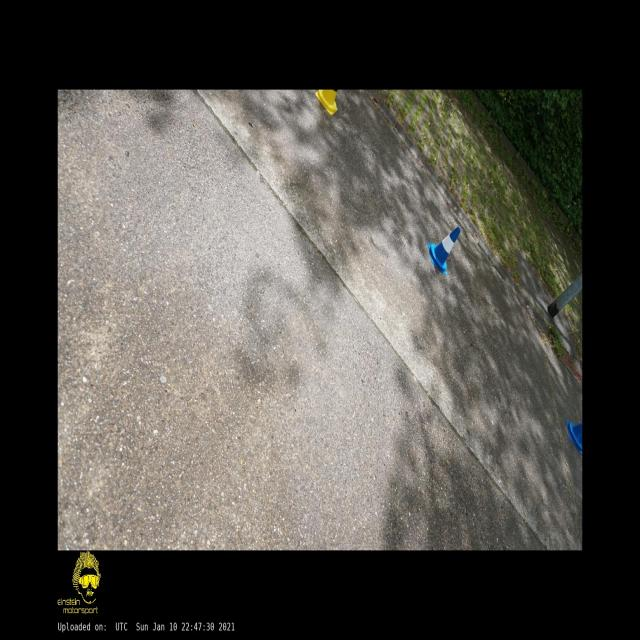blue_cone: (428, 227, 460, 275), (566, 418, 582, 456)
yellow_cone: (315, 90, 338, 116)
